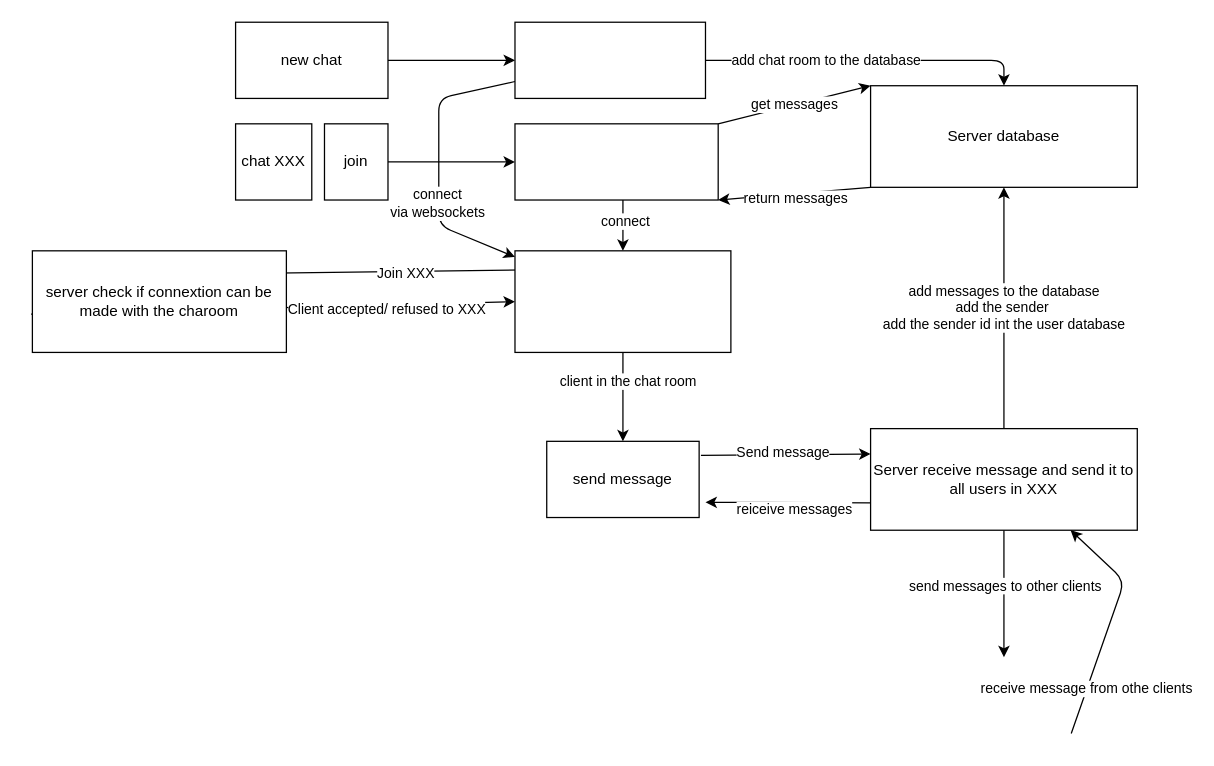
This 1214x766 diagram has some shape labels left out. The shapes that lost their labels are listed below. From the top down, each one's centre as x and y in pixels, then its label:
(x=609, y=59): user select the options of the chat room
(x=616, y=161): get messages of XXX get request to database
(x=622, y=301): connect to chat XXX
